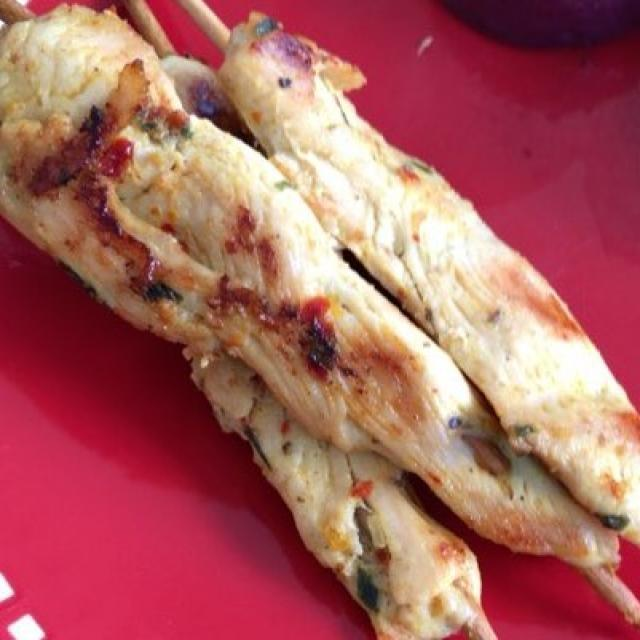chicken: (12, 7, 626, 625)
